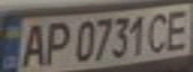0: (72, 17, 96, 64)
1: (127, 11, 151, 56)
3: (112, 13, 133, 60)
7: (93, 15, 115, 62)
A: (15, 19, 51, 69)
C: (145, 9, 175, 54)
E: (160, 6, 193, 52)
P: (39, 18, 72, 66)
